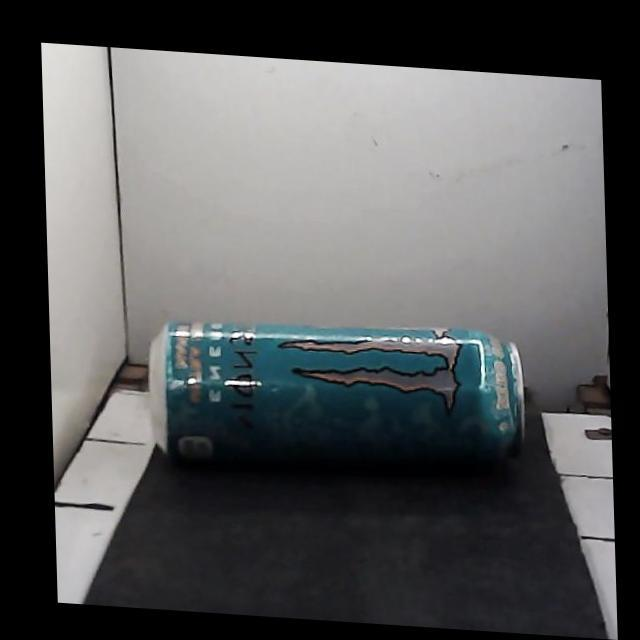metal: (149, 321, 525, 471)
